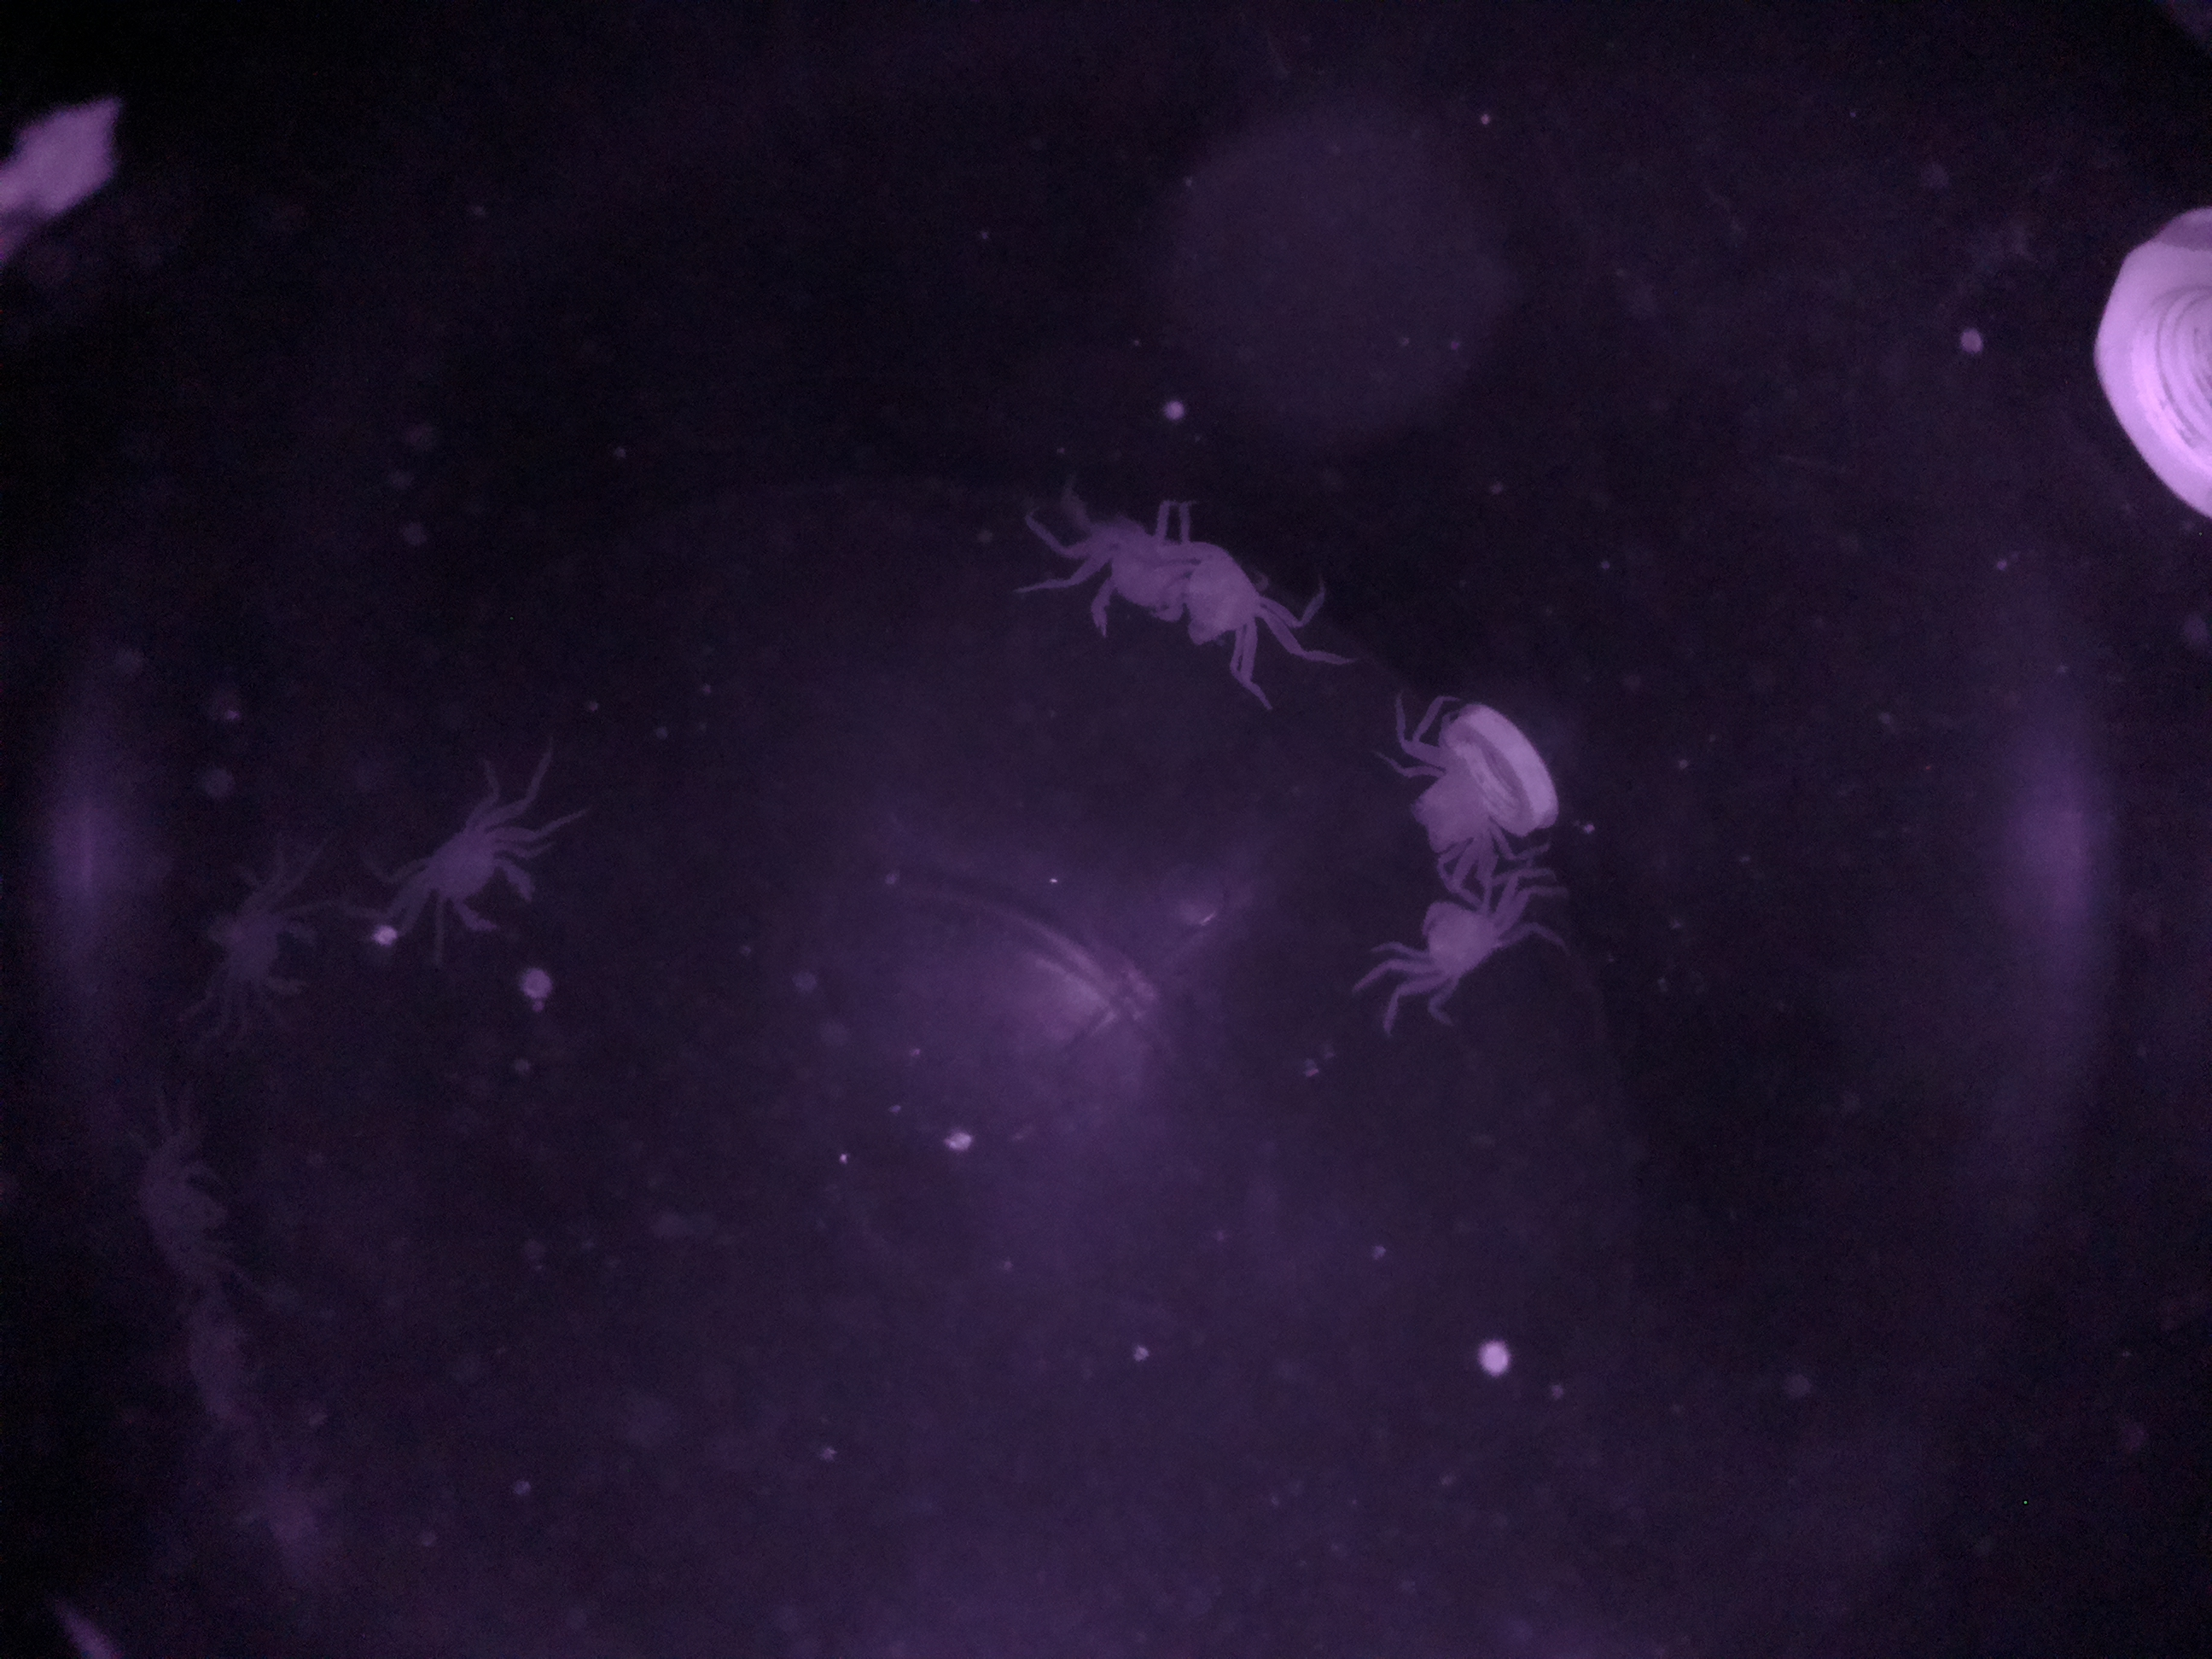Crab: (373, 760, 547, 995), (1336, 695, 1550, 880), (1379, 842, 1538, 1080)
